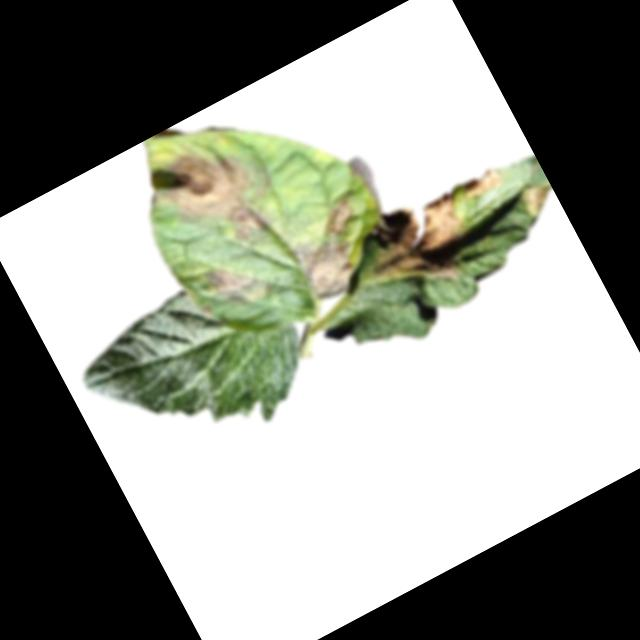Late_blight: (136, 123, 290, 272), (348, 182, 487, 314), (285, 219, 370, 307), (199, 245, 278, 322), (455, 160, 508, 205), (515, 173, 562, 222), (318, 194, 362, 238)
healthy: (66, 252, 330, 491)
